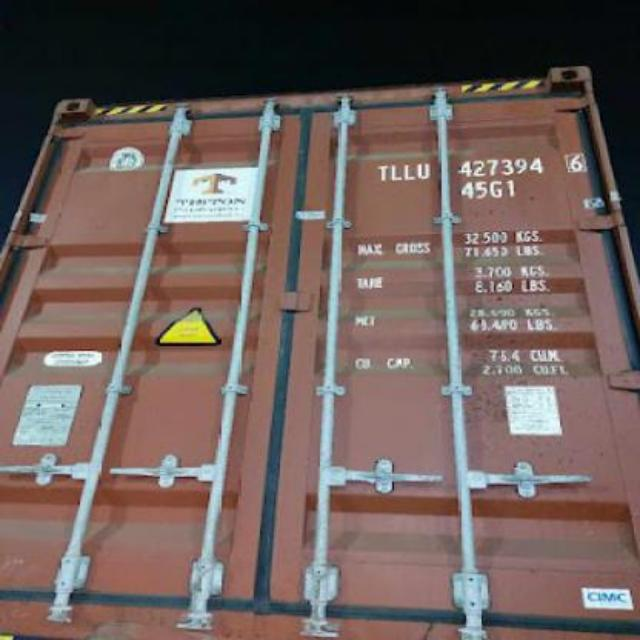2: (472, 154, 486, 176)
3: (502, 153, 512, 180)
4: (528, 151, 550, 175), (456, 156, 472, 180)
6: (562, 146, 588, 178)
7: (486, 156, 502, 177)
9: (512, 152, 526, 178)
L: (388, 160, 404, 184), (404, 160, 418, 186)
T: (376, 162, 389, 184)
U: (416, 158, 429, 185)
